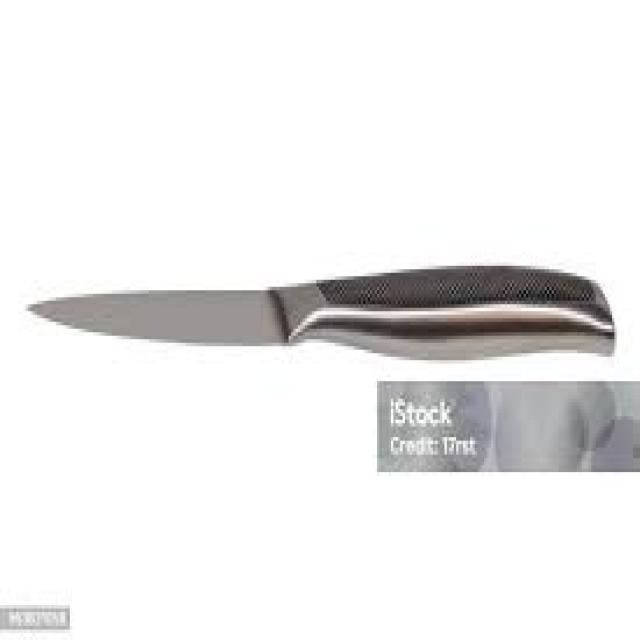Knife: (26, 259, 614, 357)
